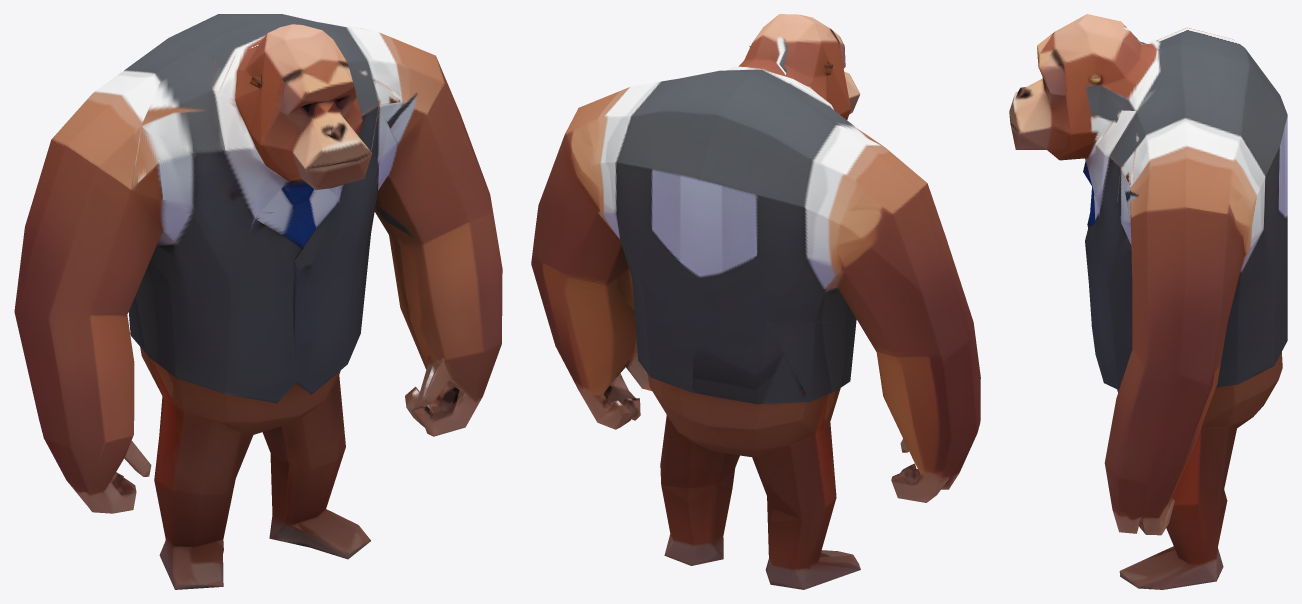
The model's file is base_basic_shaded.fbx.
3 renders of one model, left to right at view 1: azimuth 30°, elevation 25°; view 2: azimuth 150°, elevation 25°; view 3: azimuth 270°, elevation 25°, orthographic. The views are drawn at different scales.
Visible parts, largest first — view 1: model; view 2: model; view 3: model.
Boxes of the visible parts, x1,y1,x2,y2 form: model: (14,14,502,589); model: (531,14,980,589); model: (1009,14,1287,589).
Size of the model in its own units: 158 by 177 by 84.96.
